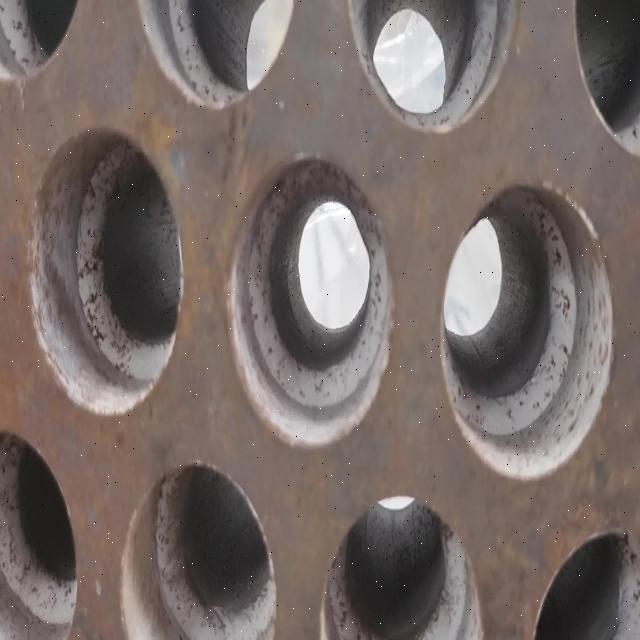Hole: (440, 180, 616, 482), (226, 153, 394, 448), (29, 124, 183, 416), (120, 461, 278, 639), (320, 494, 484, 640), (349, 1, 517, 134), (133, 1, 303, 111), (1, 423, 79, 635), (530, 528, 640, 640), (574, 0, 640, 156), (0, 1, 89, 83)
